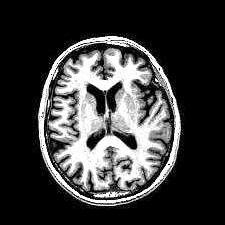Normal_Brain: (3, 1, 225, 225)
